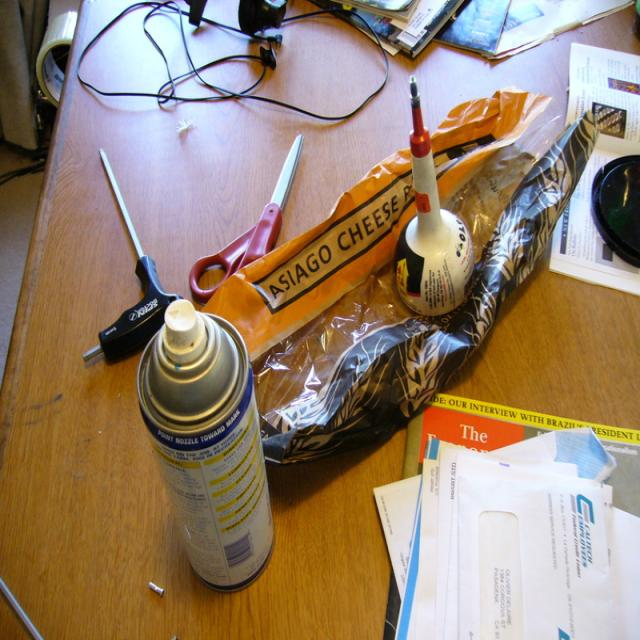glue: (396, 76, 474, 315)
packet - bresh: (205, 116, 596, 462)
wire: (77, 0, 388, 121), (0, 158, 45, 185)
